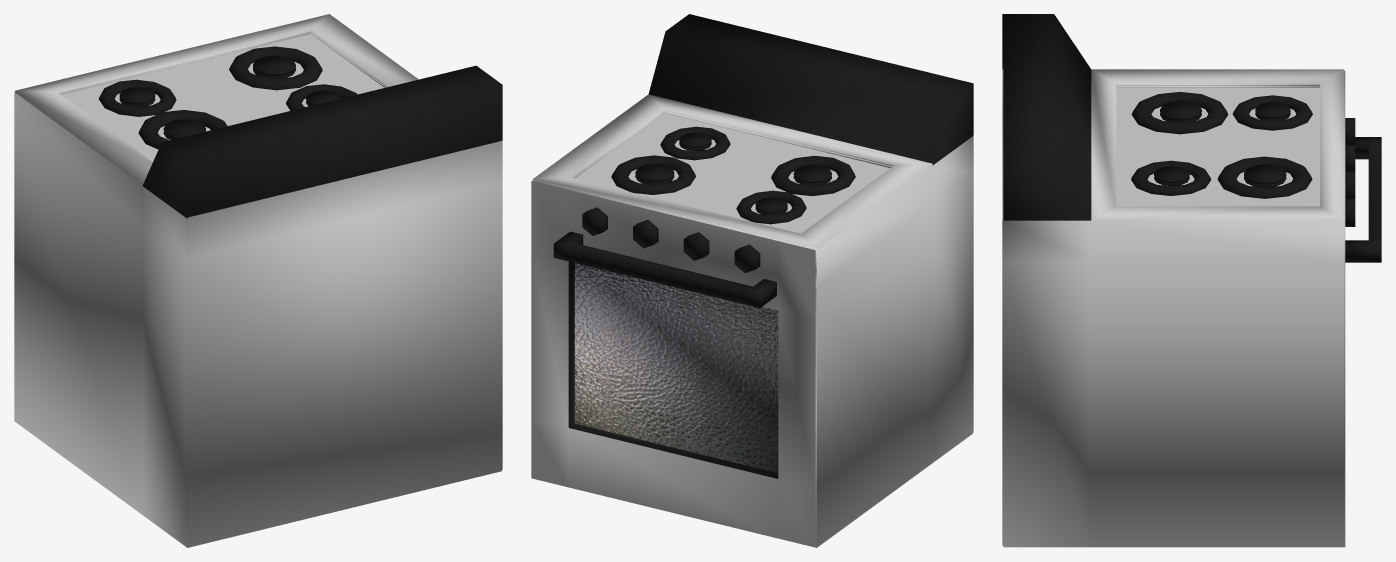
The model's file is Stove.fbx.
3 views of the same model, side by side, from view 1: azimuth 30°, elevation 25°; view 2: azimuth 150°, elevation 25°; view 3: azimuth 270°, elevation 25° (orthographic). The views are drawn at different scales.
Visible parts, largest first — view 1: StoveMain, Stove; view 2: StoveMain, Door, Stove, DoorHandle, Knob; view 3: StoveMain, Stove, DoorHandle, Knob.
Boxes of the visible parts, x1,y1,x2,y2 form: StoveMain: (14,14,502,547); Stove: (61,34,383,161); StoveMain: (532,14,973,547); Door: (531,181,815,547); Stove: (575,113,889,233); DoorHandle: (553,231,776,307); Knob: (582,207,760,273); StoveMain: (1002,14,1345,547); Stove: (1116,87,1319,206); DoorHandle: (1345,137,1381,262); Knob: (1345,118,1355,226).
Size of the model in its own units: 3.54 by 4.14 by 3.73.
